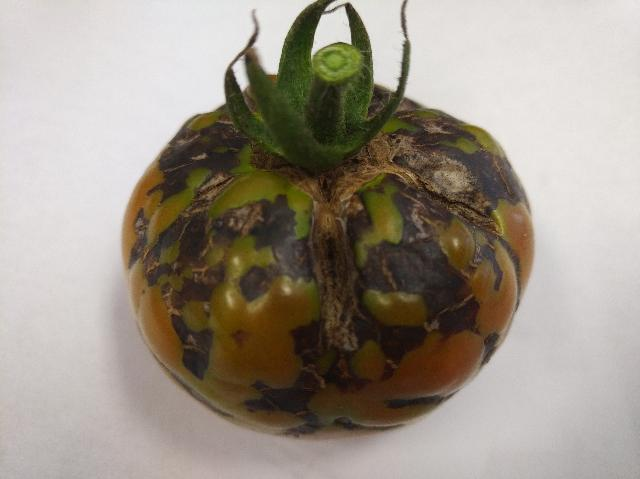defect: (119, 2, 543, 446)
